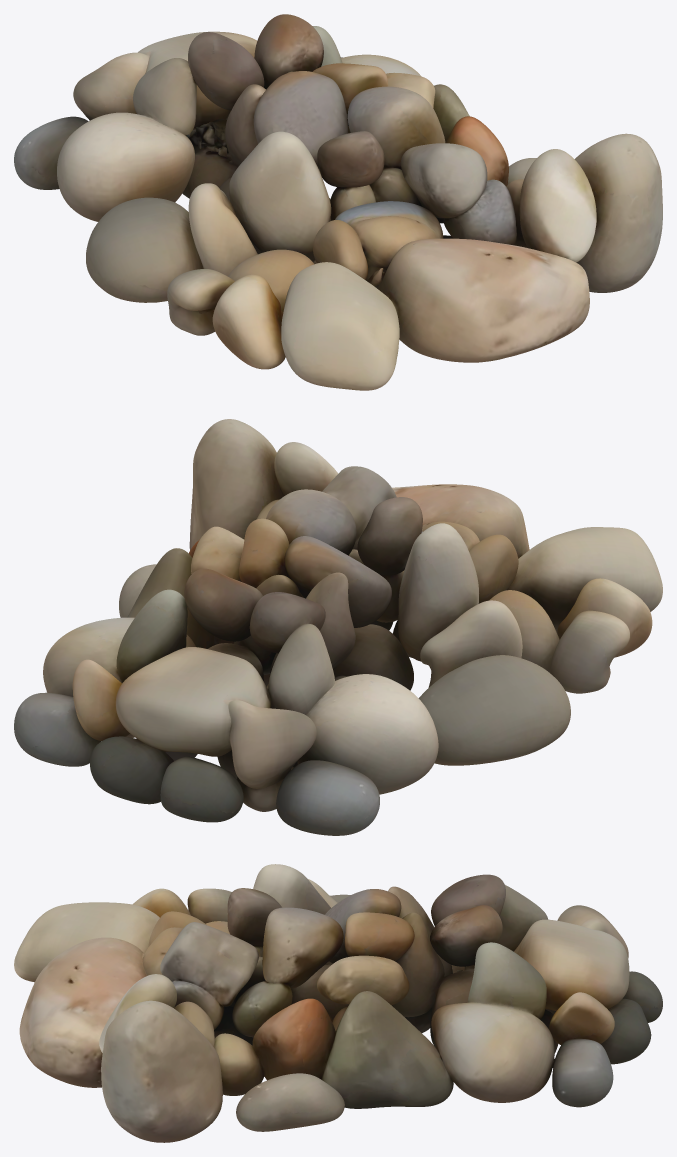
Rendered from stone.glb.
The picture shows the model from 3 angles, top to bottom: view 1: azimuth 30°, elevation 25°; view 2: azimuth 150°, elevation 25°; view 3: azimuth 270°, elevation 25°; orthographic projection. The views are drawn at different scales.
Visible parts, largest first — view 1: model; view 2: model; view 3: model.
Part boxes in pixels (left/top/right/bottom): model: left=14, top=14, right=662, bottom=390; model: left=14, top=419, right=662, bottom=835; model: left=14, top=864, right=662, bottom=1142.
Bounding box in the file's own units: 0.2674 × 0.1 × 0.3548.
1 material, 1 textured.
